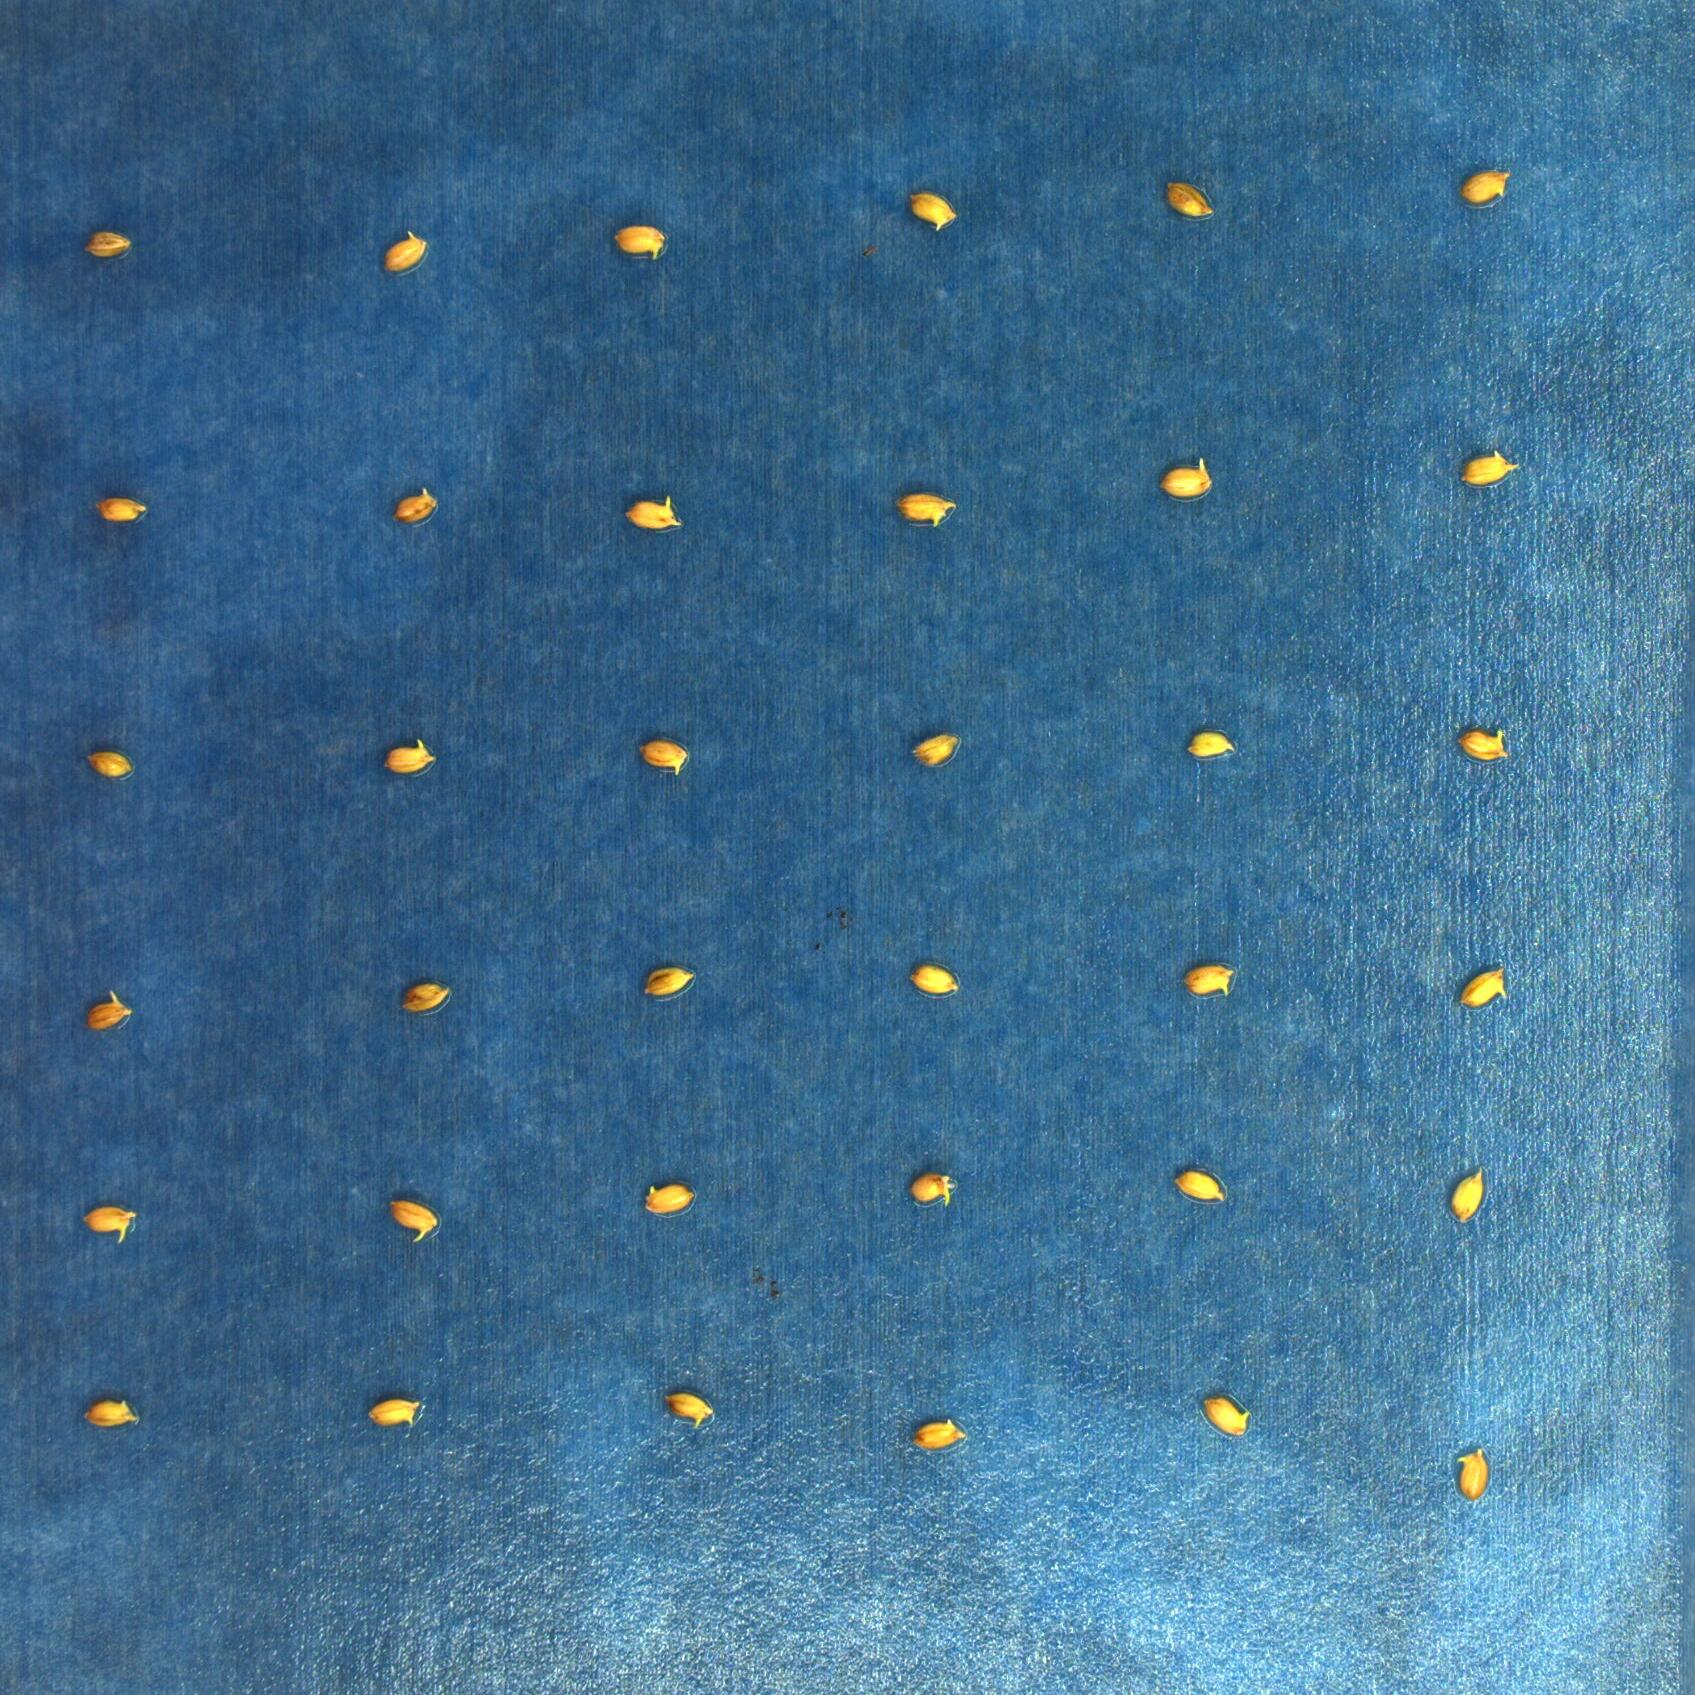not sprout: (1203, 1392, 1253, 1440), (1461, 452, 1523, 489), (913, 1419, 972, 1458), (893, 494, 959, 528), (390, 1200, 439, 1245), (1159, 459, 1212, 501), (385, 736, 433, 781), (82, 989, 132, 1032), (1451, 1167, 1489, 1225), (622, 497, 681, 532), (911, 189, 956, 236), (368, 1395, 425, 1431), (84, 1208, 137, 1246), (663, 1389, 717, 1426), (385, 228, 427, 276), (640, 739, 688, 779), (1166, 177, 1215, 216), (1459, 1444, 1492, 1503), (613, 224, 664, 261), (1173, 1169, 1226, 1205), (1454, 728, 1512, 761), (1180, 964, 1237, 997), (85, 1397, 140, 1431), (646, 1180, 695, 1217), (911, 1172, 956, 1212), (393, 487, 439, 525), (1461, 171, 1512, 203), (1465, 972, 1512, 1007), (400, 984, 449, 1018), (643, 967, 692, 1000), (92, 497, 149, 525), (1184, 733, 1242, 761), (908, 967, 958, 997), (84, 751, 130, 782), (913, 733, 956, 765), (84, 230, 130, 259)
